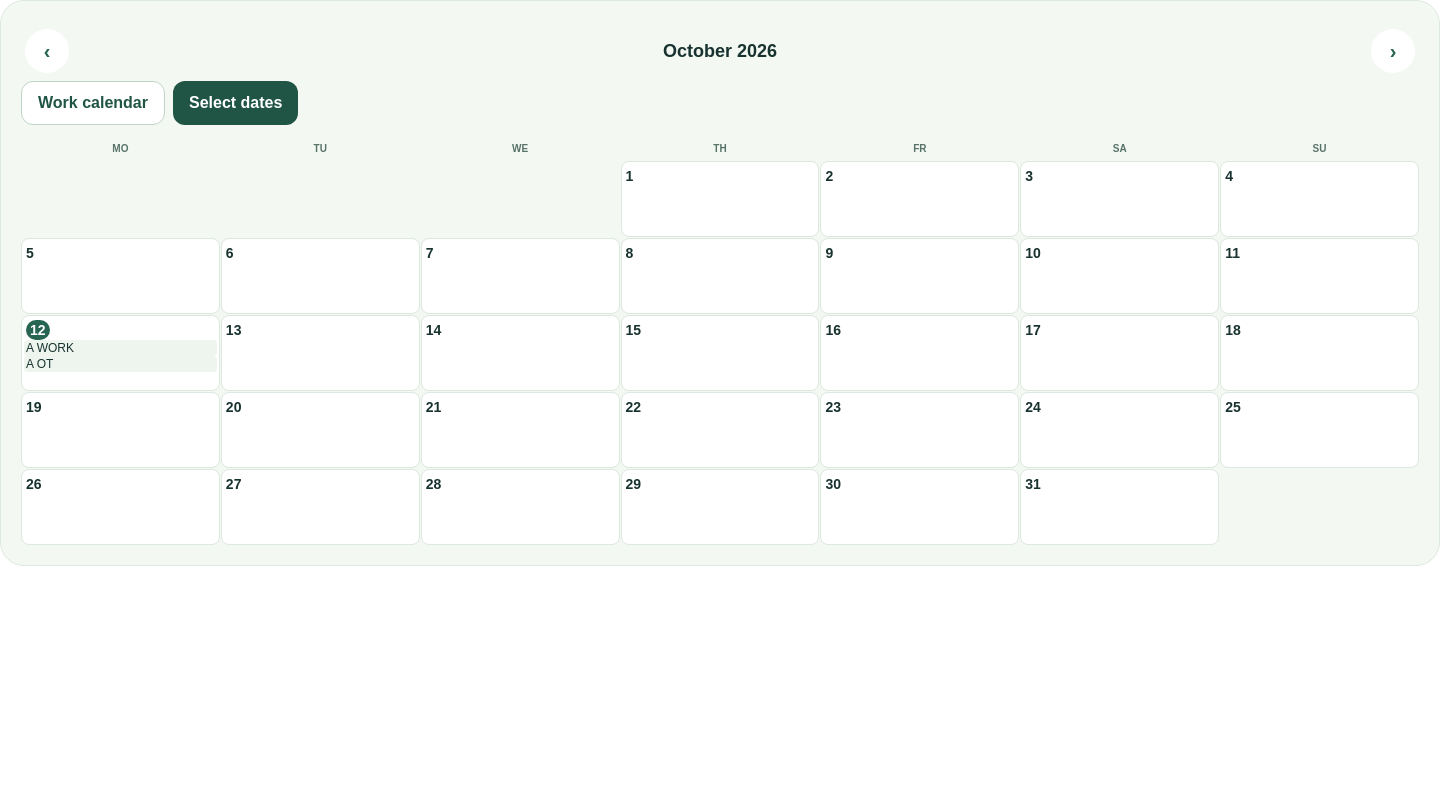
Test: event UI › keeps a navigated month and selected day after creating an event
Click the button named "Next month".
click(1393, 51)  # box [1371,29,1415,73]
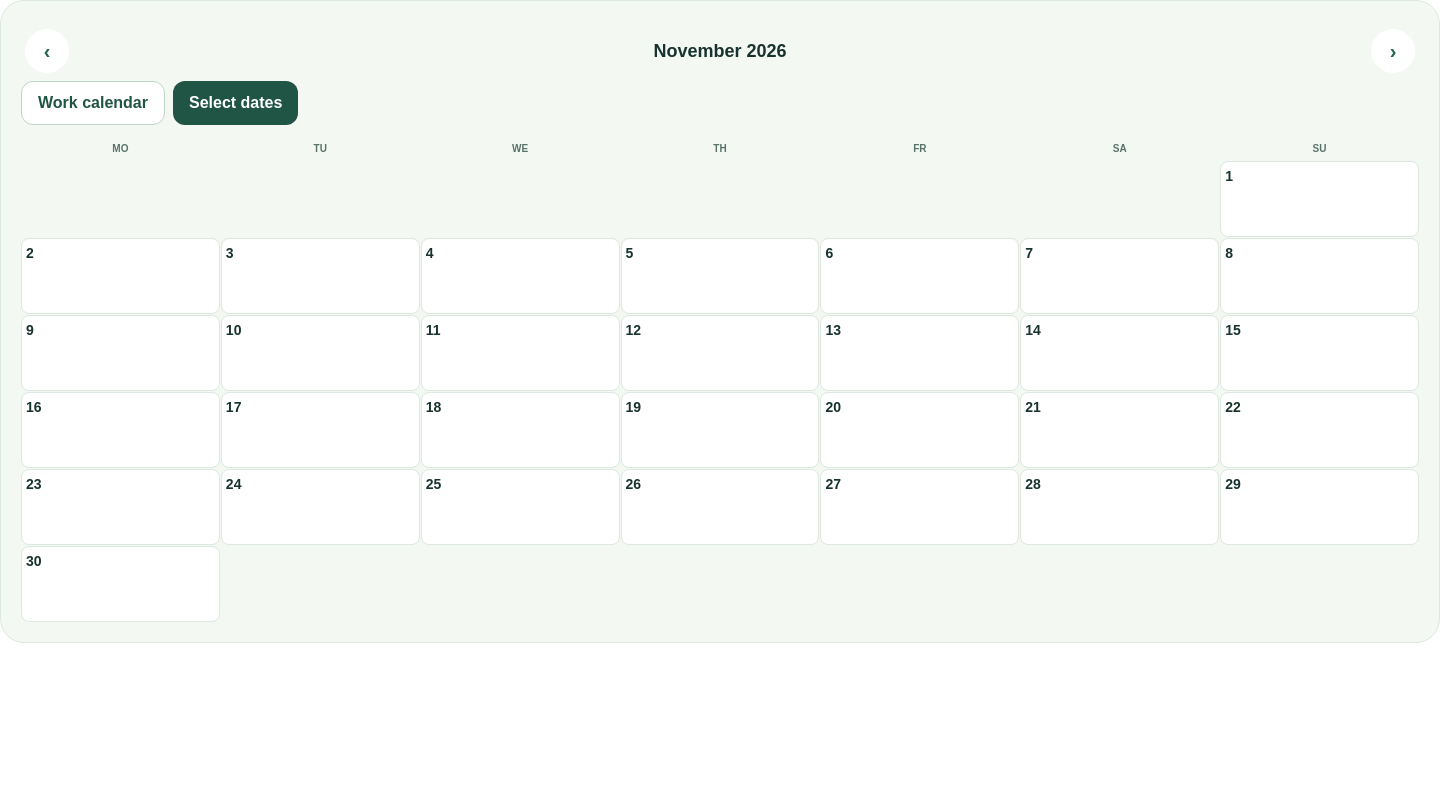
Expected: the button named "Open November 2, 2026" is shown
Click the button named "Open November 2, 2026".
click(120, 276)  # box [21,238,220,314]
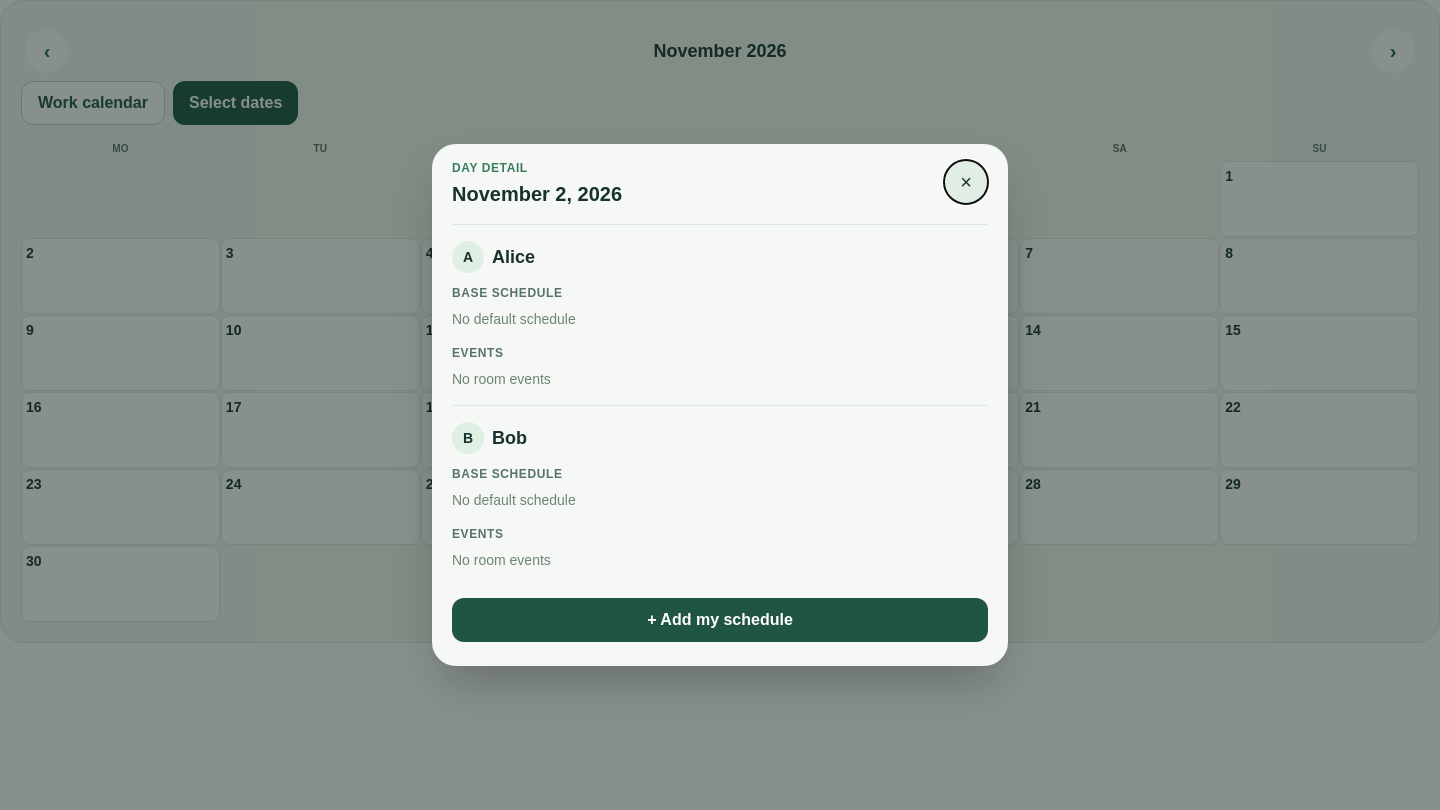
Click the button "+ Add my schedule".
click(720, 620)  # box [452,598,988,642]
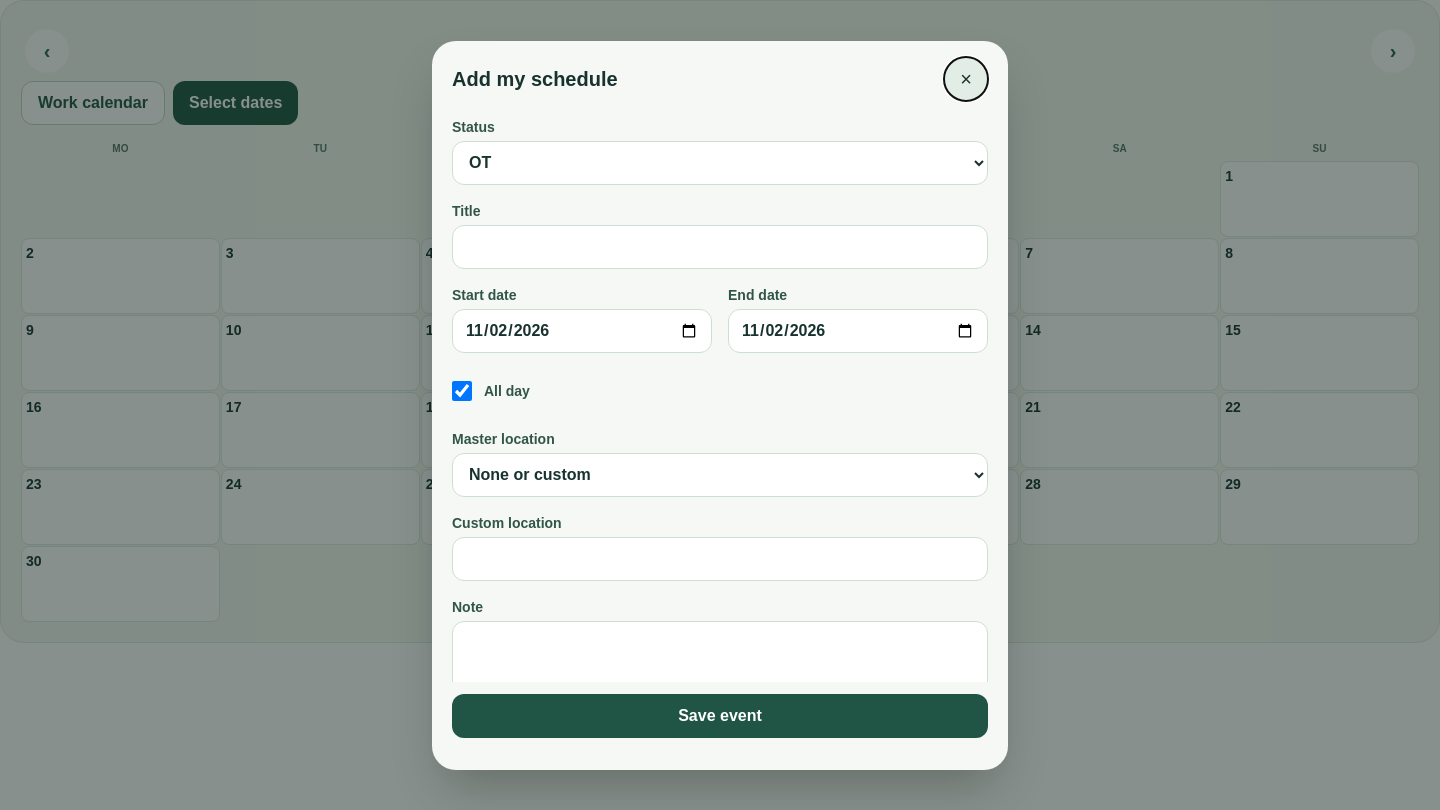
Click the button "Save event".
click(720, 716)  # box [452,694,988,738]
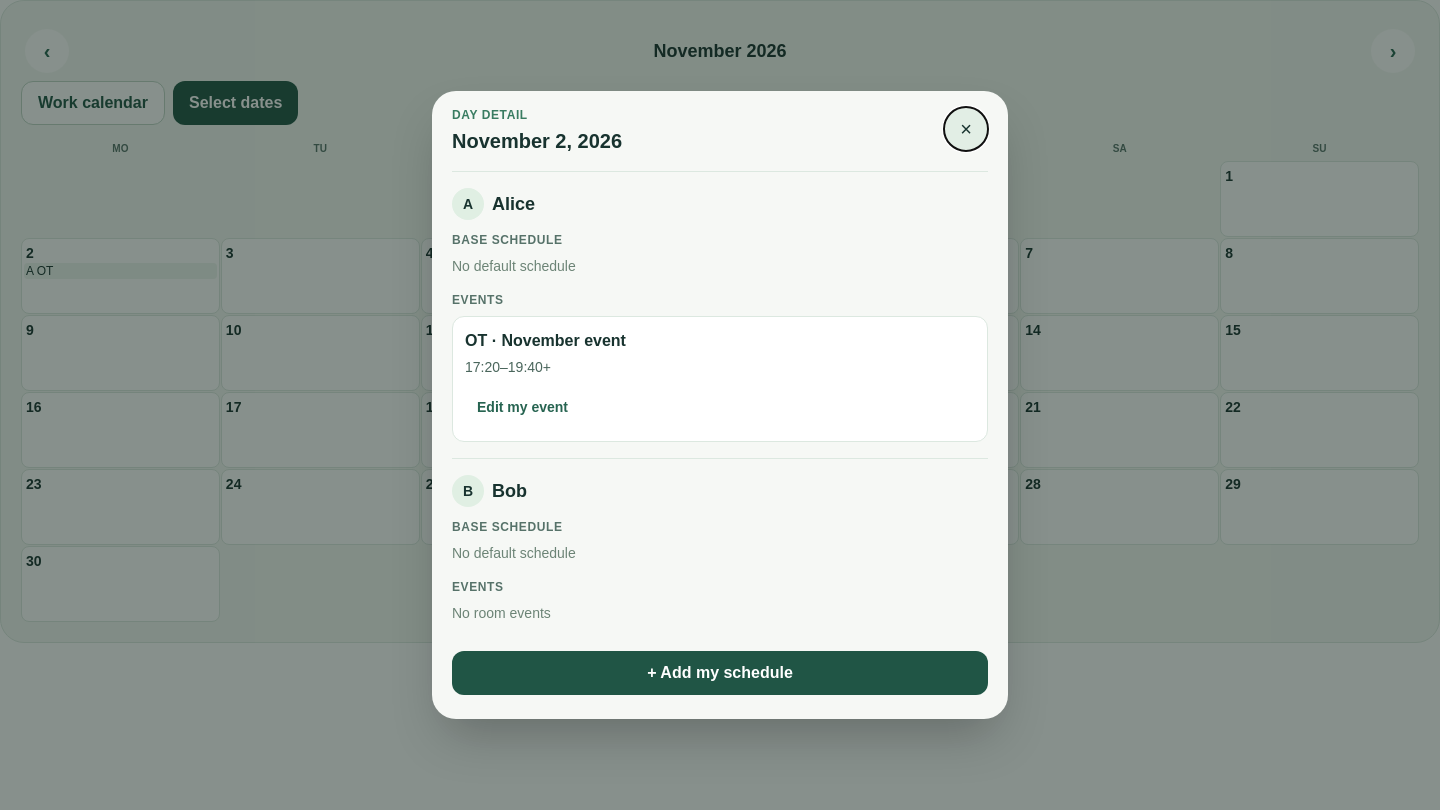
Expected: the heading "November 2026" is shown, [654,37,787,65]
Expected: the text "OT · November event" is shown, [465,332,626,349]
Expected: the text "November 2, 2026" is shown, [452,130,622,152]
